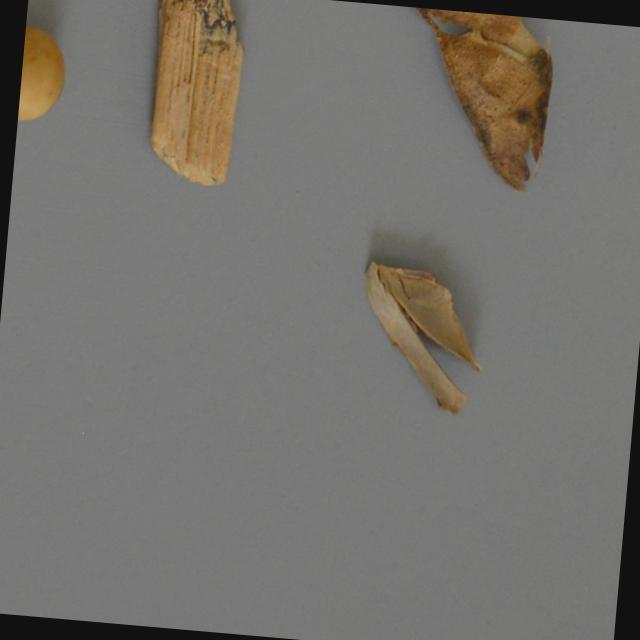cuerpos_extranos: (369, 4, 564, 194), (347, 251, 500, 415), (142, 0, 252, 190), (17, 17, 77, 122)
